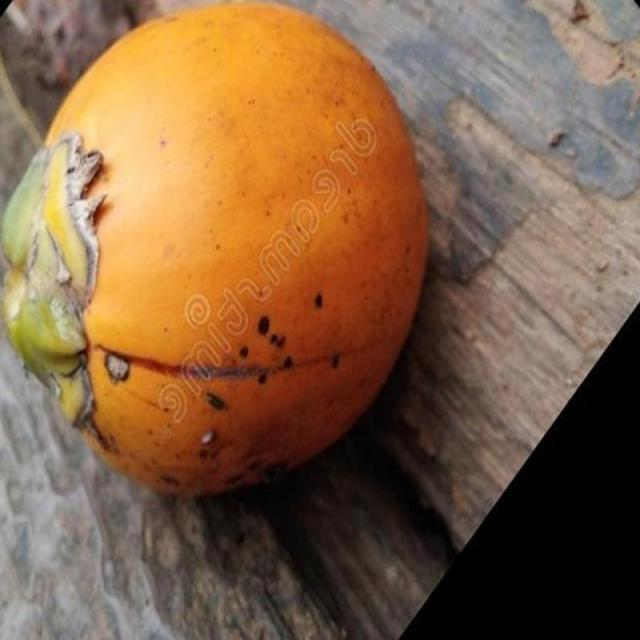good: (0, 2, 431, 500)
